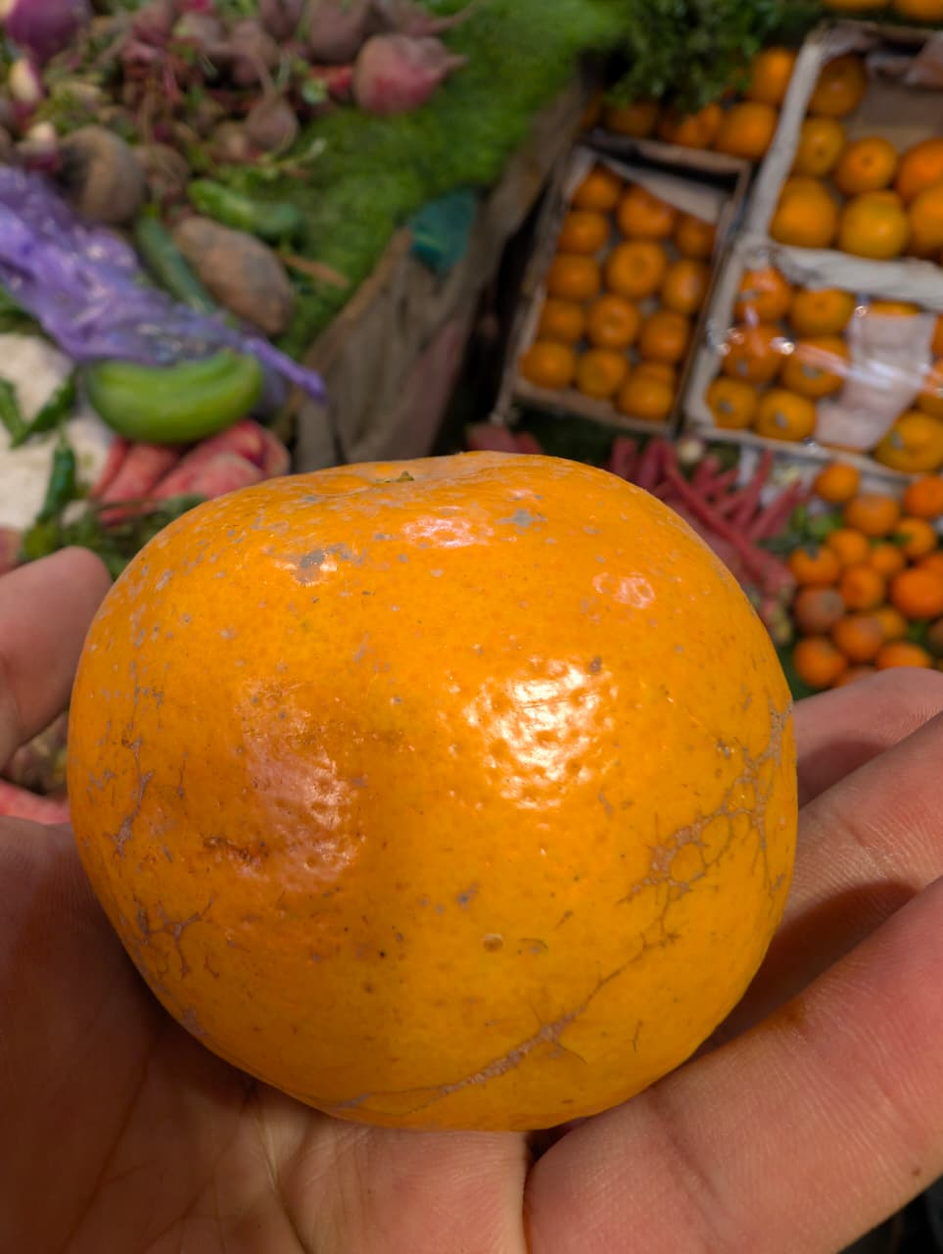orange: (125, 136, 913, 1152)
